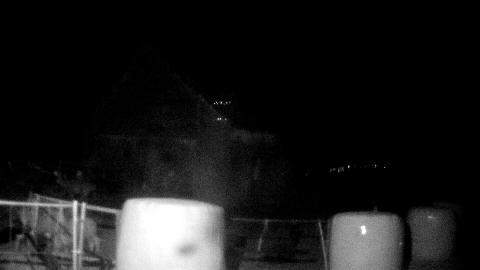sheep: (51, 217, 101, 256)
